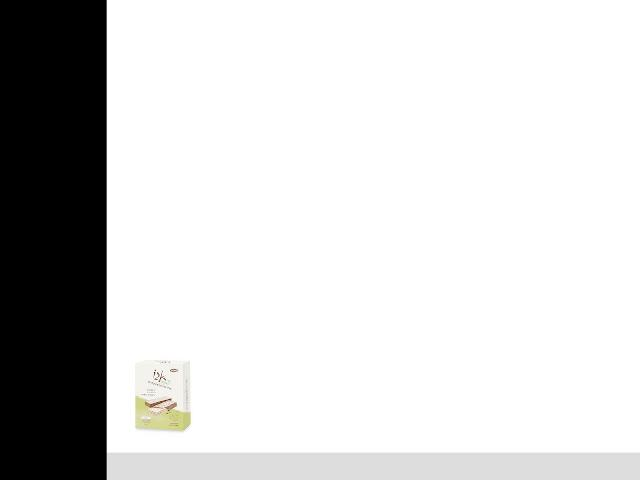chocolate: (128, 358, 194, 434)
